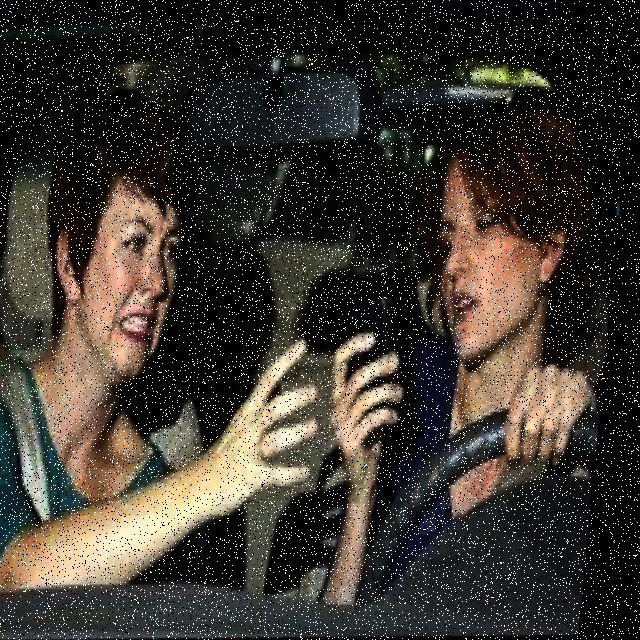seatbelt: (0, 323, 146, 555)
